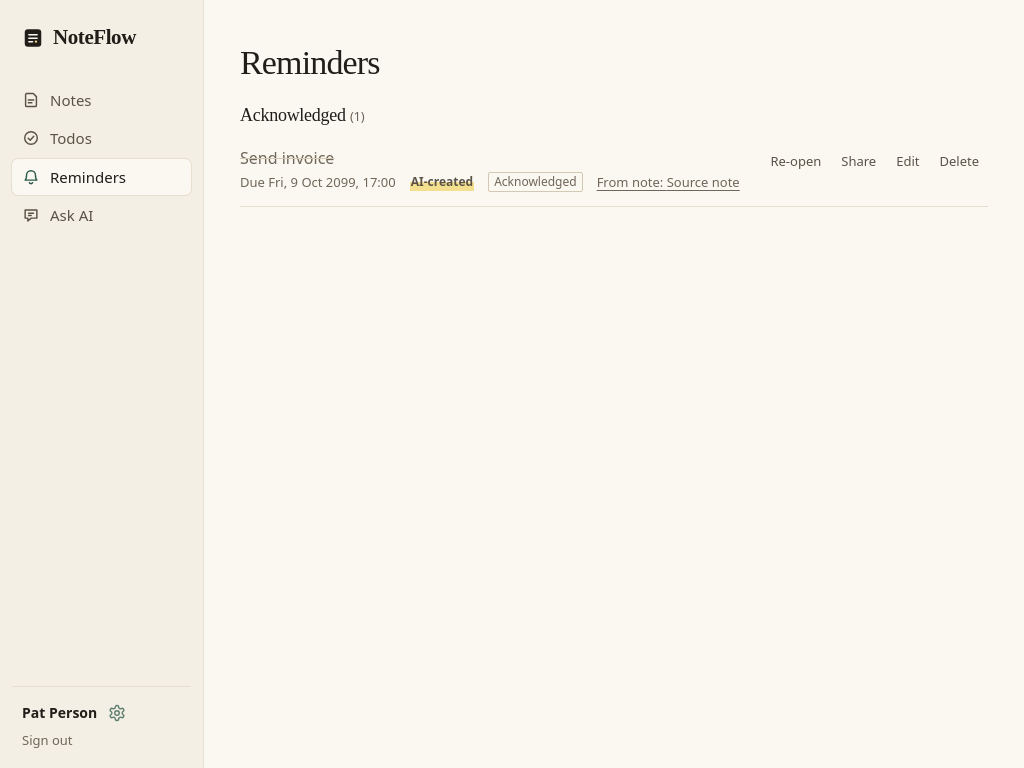
acknowledging › "Re-open" puts it back to pending
This screenshot has width=1024, height=768.
Click the button with aria-label "re-open: send invoice" at (796, 161), box [761,147,830,175]
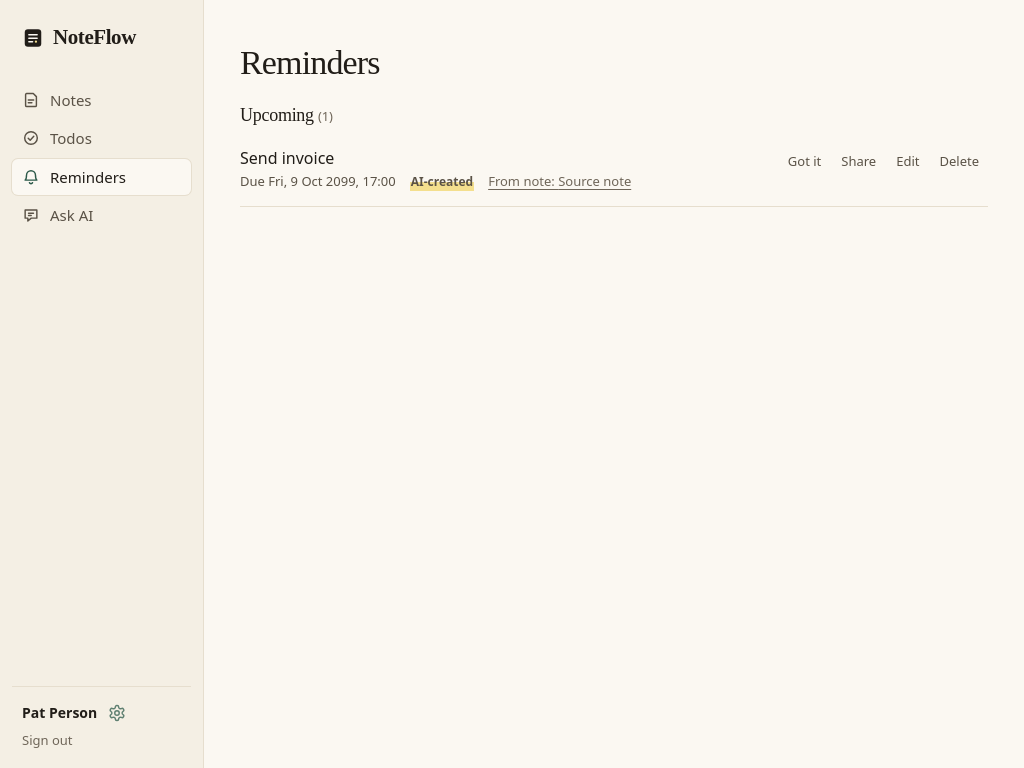
Expected: the element "Upcoming" is shown, [240,102,988,207]
